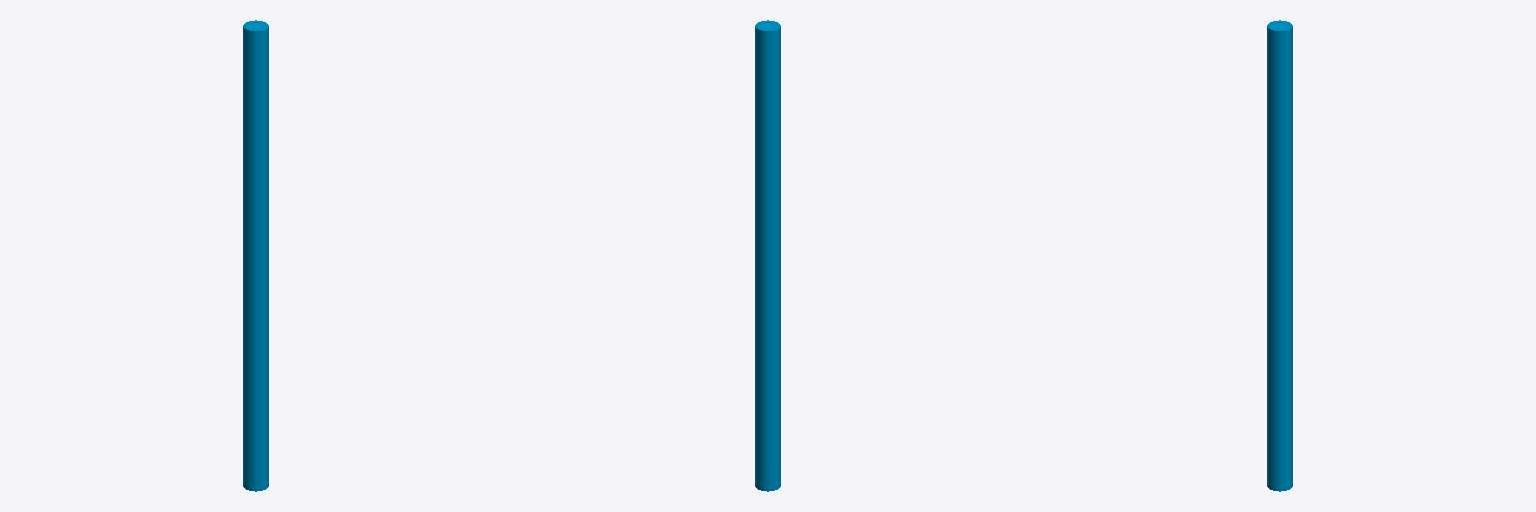
URDF robot description (cart):
<?xml version="1.0" ?>

<robot name="cart">
    
    <material name="industrial-blue">
        <color rgba="0.113725 0.3450980 0.654901 1" />
    </material>
    
    <material name="arches-blue">
        <color rgba="0.0 0.6235294 0.831372 1" />
    </material>
    
    <material name = "heritage-orange">
        <color rgba = "0.96078 0.50980 0.11764 1" />
    </material>
    
    
    <link name="chassis">
        <visual>
            <origin rpy="0 0 0" xyz="0 0 0"/>
            <geometry>
                <mesh filename="cube.stl" scale="1 0.5 0.25"/>
            </geometry>
            <material name = "industrial-blue"/>
        </visual>
        <collision>
            <origin rpy="0 0 0" xyz="0 0 0"/>
            <geometry>
                <mesh filename="cube.stl" scale="1 0.5 0.25"/>
            </geometry>
        </collision>
        <inertial>
            <origin rpy="0 0 0" xyz="0 0 0"/>
            <mass value="2.0"/>
            <inertia ixx="0" ixy="0" ixz="0" iyy="0" iyz="0" izz="0"/>
        </inertial>
    </link>
    
    <link name="arm">
        <visual>
            <origin rpy="0 0 0" xyz="0 0 0"/>
            <geometry>
                <mesh filename="cylinder_lower_origin.stl" scale="0.05 0.05 1.0"/>
            </geometry>
            <material name = "arches-blue"/>
        </visual>
        <collision>
            <origin rpy="0 0 0" xyz="0 0 0"/>
            <geometry>
                <mesh filename="cylinder_lower_origin.stl" scale="0.05 0.05 1.0"/>
            </geometry>
        </collision>
        <inertial>
            <origin rpy="0 0 0" xyz="0 0 1.0"/>
            <mass value="0.0"/>
            <inertia ixx="0" ixy="0" ixz="0" iyy="0" iyz="0" izz="0"/>
        </inertial>
    </link>
    
    <link name="mass">
        <visual>
            <origin rpy="0 0 0" xyz="0 0 0"/>
            <geometry>
                <mesh filename="sphere.stl" scale="0.2 0.2 0.2"/>
            </geometry>
            <material name = "arches-blue"/>
        </visual>
        <collision>
            <origin rpy="0 0 0" xyz="0 0 0"/>
            <geometry>
                <mesh filename="sphere.stl" scale="0.2 0.2 0.2"/>
            </geometry>
        </collision>
        <inertial>
            <origin rpy="0 0 0" xyz="0 0 0"/>
            <mass value="1.0"/>
            <inertia ixx="0" ixy="0" ixz="0" iyy="0" iyz="0" izz="0"/>
        </inertial>
    </link>
    
    <link name="wheel_1">
        <visual>
            <origin rpy="0 0 0" xyz="0 0 0"/>
            <geometry>
                <mesh filename="cylinder.stl" scale="0.25 0.25 0.05"/>
            </geometry>
            <material name = "heritage-orange"/>
        </visual>
        <collision>
            <origin rpy="0 0 0" xyz="0 0 0"/>
            <geometry>
                <mesh filename="cylinder.stl" scale="0.25 0.25 0.05"/>
            </geometry>
        </collision>
        <inertial>
            <origin rpy="0 0 0" xyz="0 0 0"/>
            <mass value="0.25"/>
            <inertia ixx="0.0078" ixy="0" ixz="0" iyy="0.0078" iyz="0" izz="0.0078"/>
        </inertial>
    </link>
    
    <link name="wheel_2">
        <visual>
            <origin rpy="0 0 0" xyz="0 0 0"/>
            <geometry>
                <mesh filename="cylinder.stl" scale="0.25 0.25 0.05"/>
            </geometry>
            <material name = "heritage-orange"/>
        </visual>
        <collision>
            <origin rpy="0 0 0" xyz="0 0 0"/>
            <geometry>
                <mesh filename="cylinder.stl" scale="0.25 0.25 0.05"/>
            </geometry>
        </collision>
        <inertial>
            <origin rpy="0 0 0" xyz="0 0 0"/>
            <mass value="0.25"/>
            <inertia ixx="0.0078" ixy="0" ixz="0" iyy="0.0078" iyz="0" izz="0.0078"/>
        </inertial>
    </link>
    
    <link name="wheel_3">
        <visual>
            <origin rpy="0 0 0" xyz="0 0 0"/>
            <geometry>
                <mesh filename="cylinder.stl" scale="0.25 0.25 0.05"/>
            </geometry>
            <material name = "heritage-orange"/>
        </visual>
        <collision>
            <origin rpy="0 0 0" xyz="0 0 0"/>
            <geometry>
                <mesh filename="cylinder.stl" scale="0.25 0.25 0.05"/>
            </geometry>
        </collision>
        <inertial>
            <origin rpy="0 0 0" xyz="0 0 0"/>
            <mass value="0.25"/>
            <inertia ixx="0.0078" ixy="0" ixz="0" iyy="0.0078" iyz="0" izz="0.0078"/>
        </inertial>
    </link>
    
    <link name="wheel_4">
        <visual>
            <origin rpy="0 0 0" xyz="0 0 0"/>
            <geometry>
                <mesh filename="cylinder.stl" scale="0.25 0.25 0.05"/>
            </geometry>
            <material name = "heritage-orange"/>
        </visual>
        <collision>
            <origin rpy="0 0 0" xyz="0 0 0"/>
            <geometry>
                <mesh filename="cylinder.stl" scale="0.25 0.25 0.05"/>
            </geometry>
        </collision>
        <inertial>
            <origin rpy="0 0 0" xyz="0 0 0"/>
            <mass value="0.25"/>
            <inertia ixx="0.0078" ixy="0" ixz="0" iyy="0.0078" iyz="0" izz="0.0078"/>
        </inertial>
    </link>
    
    
    <joint name="chassis_to_wheel_1" type="continuous">
        <parent link = "chassis" />
        <child link = "wheel_1" />
        <origin rpy="1.5707963267948966 0 0" xyz = "0.375 -0.275 -0.125" />
        <axis xyz = "0 0 1" />
    </joint>

    <joint name="chassis_to_wheel_2" type="continuous">
        <parent link = "chassis" />
        <child link = "wheel_2" />
        <origin rpy="1.5707963267948966 0 0" xyz = "-0.375 -0.275 -0.125" />
        <axis xyz = "0 0 1" />
    </joint>
    
    <joint name="chassis_to_wheel_3" type="continuous">
        <parent link = "chassis" />
        <child link = "wheel_3" />
        <origin rpy="1.5707963267948966 0 0" xyz = "-0.375 0.275 -0.125" />
        <axis xyz = "0 0 1" />
    </joint>
    
    <joint name="chassis_to_wheel_4" type="continuous">
        <parent link = "chassis" />
        <child link = "wheel_4" />
        <origin rpy="1.5707963267948966 0 0" xyz = "0.375 0.275 -0.125" />
        <axis xyz = "0 0 1" />
    </joint>
    
    <joint name="chassis_to_arm" type="continuous">
        <parent link = "chassis" />
        <child link = "arm" />
        <origin rpy="0 0 0" xyz = "0 0 0.125" />
        <axis xyz = "0 -1 0" />
    </joint>
    
    <joint name="arm_to_mass" type="fixed">
        <parent link = "arm" />
        <child link = "mass" />
        <origin rpy="0 0 0" xyz = "0 0 1.0" />
    </joint>

</robot>

--- Render facts (derived) ---
3 views of the same robot in one strip: view 1: azimuth 30°, elevation 25°; view 2: azimuth 150°, elevation 25°; view 3: azimuth 270°, elevation 25° (orthographic).
Model cart with 7 links and 6 joints (5 continuous, 1 fixed), rooted at chassis, posed all joints at 0.
Links seen in each view (by area): view 1: arm; view 2: arm; view 3: arm.
Link boxes in pixels (x1=…): arm: x1=243, y1=20, x2=268, y2=491; arm: x1=755, y1=20, x2=780, y2=491; arm: x1=1267, y1=20, x2=1292, y2=491.
Size in the robot's own frame: 0.05 by 0.05 by 1 metres.
1 mesh visuals loaded from 4 distinct referenced files (1 binary STL); not drawn: 6 (reference not matched to a file when rendering).